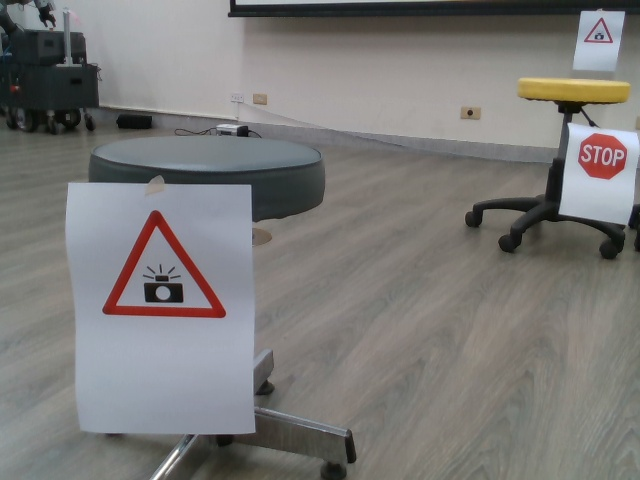camera: (98, 208, 228, 322)
stop: (575, 133, 630, 184)
